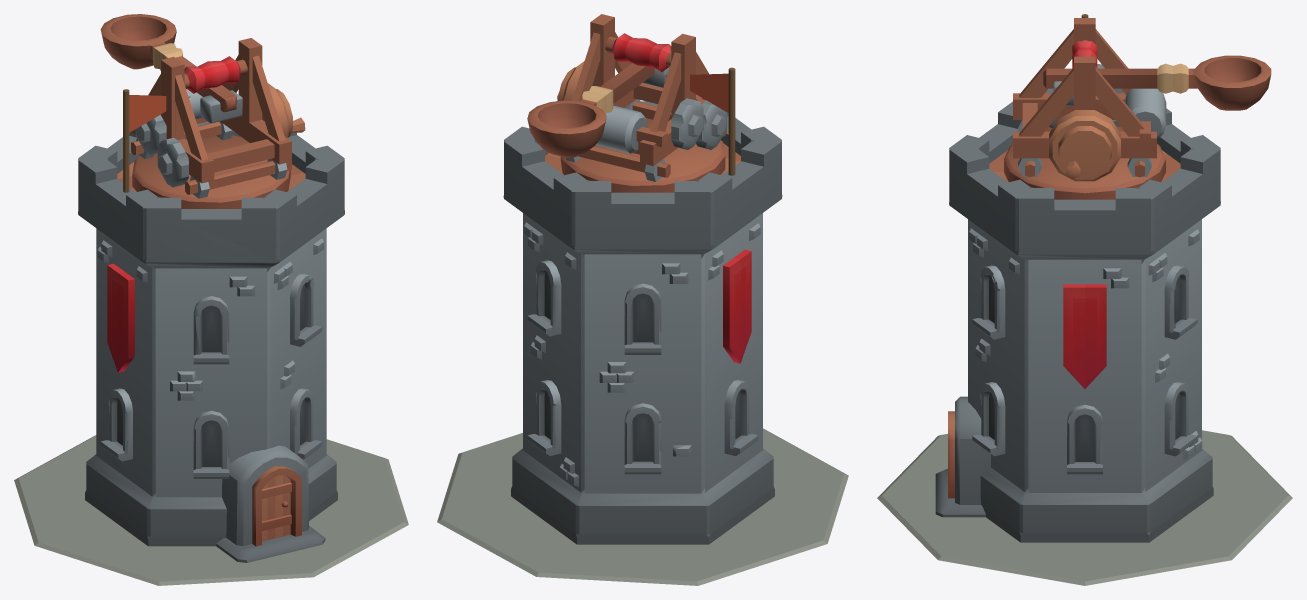
The model's file is tower-rust.glb.
3 renders of one model, left to right at view 1: azimuth 30°, elevation 25°; view 2: azimuth 150°, elevation 25°; view 3: azimuth 270°, elevation 25°, orthographic. The views are drawn at different scales.
Visible parts, largest first — view 1: building_tower_catapult_red, worn-foundation, catapult_turret_red, catapult_arm_red, team-standard, standard-pole; view 2: building_tower_catapult_red, worn-foundation, catapult_turret_red, catapult_arm_red, team-standard, standard-pole; view 3: building_tower_catapult_red, worn-foundation, catapult_turret_red, catapult_arm_red.
Part boxes in pixels (x1,y1,x2,y2): building_tower_catapult_red: (78, 120, 344, 562); worn-foundation: (14, 435, 408, 585); catapult_turret_red: (131, 38, 305, 208); catapult_arm_red: (100, 14, 242, 123); team-standard: (129, 95, 190, 132); standard-pole: (123, 89, 129, 192); building_tower_catapult_red: (503, 101, 782, 544); worn-foundation: (437, 428, 848, 585); catapult_turret_red: (557, 14, 726, 192); catapult_arm_red: (527, 63, 669, 158); team-standard: (665, 73, 728, 112); standard-pole: (728, 67, 735, 175); building_tower_catapult_red: (935, 101, 1220, 542); worn-foundation: (877, 430, 1292, 585); catapult_turret_red: (1004, 18, 1166, 199); catapult_arm_red: (1043, 55, 1271, 110).
Size of the model in its own units: 4.36 by 5.3 by 4.36.
7 materials, 4 textured.
